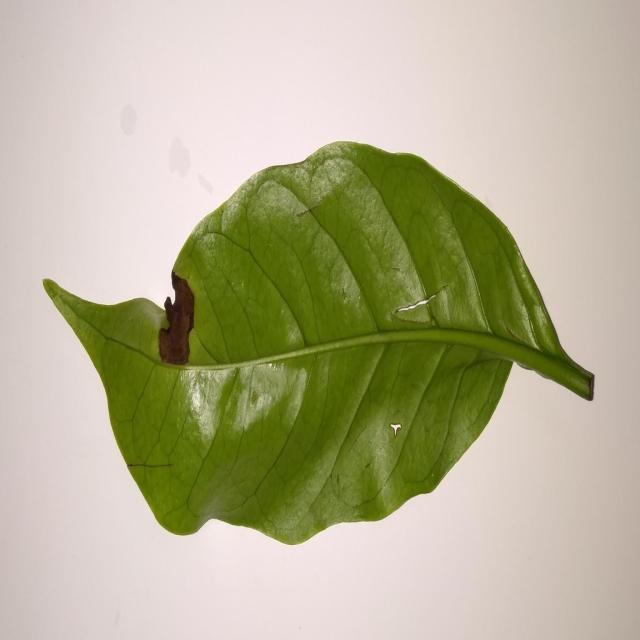Enfermedad-Antracnosis: (41, 141, 596, 549)
